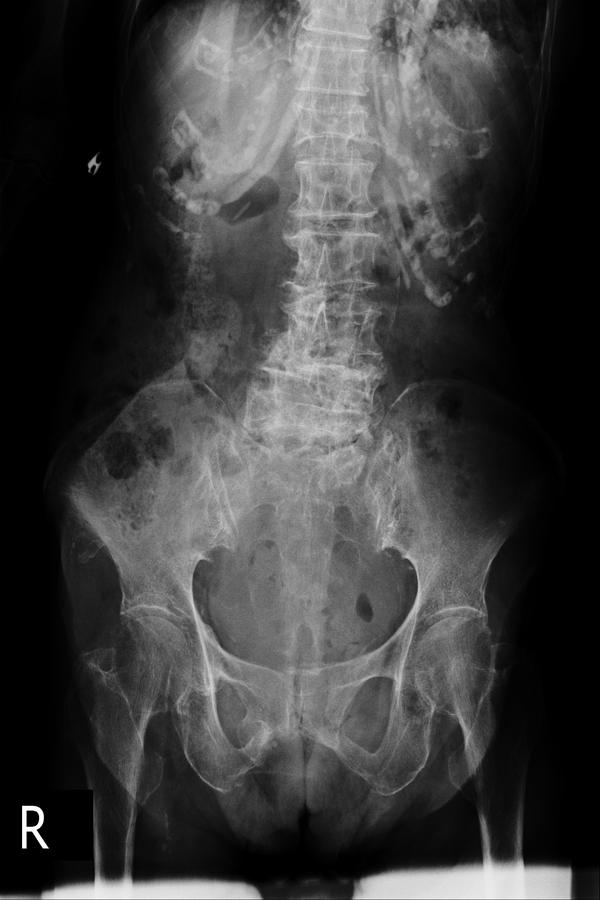lumbar scoliosis: (254, 8, 383, 488)
